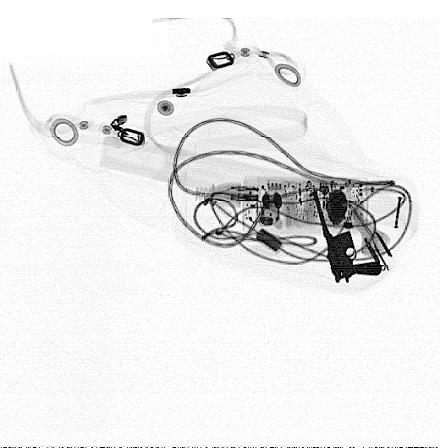Gun: (305, 189, 382, 287)
